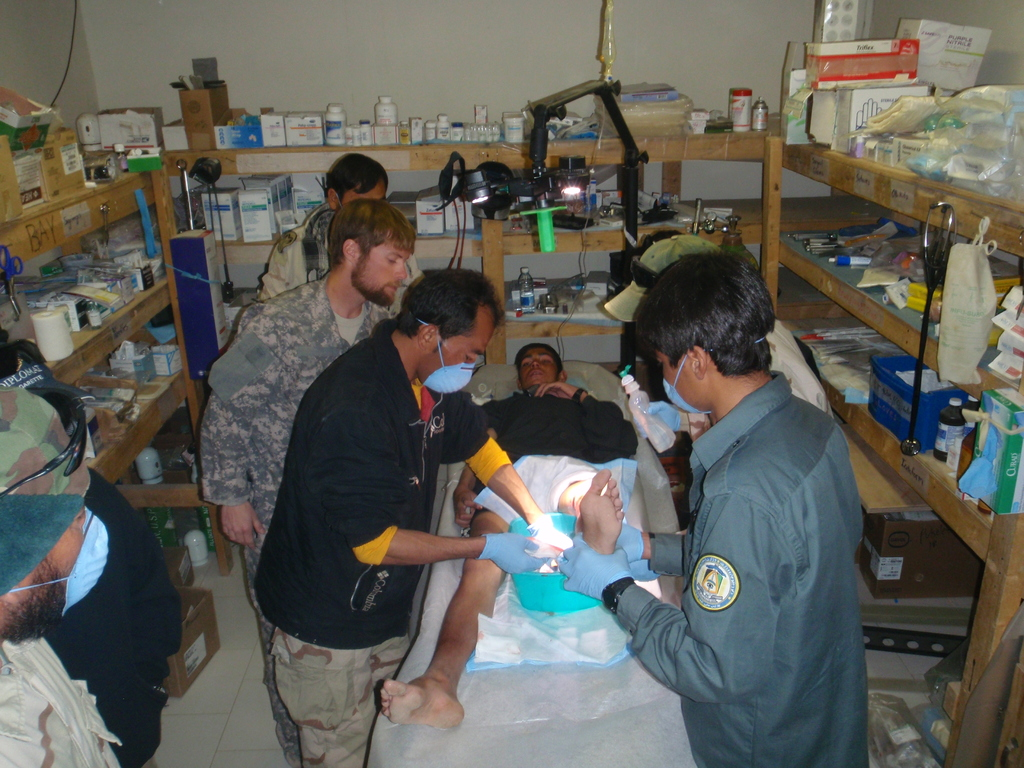Human-face: (15, 492, 88, 638), (356, 232, 410, 308), (517, 345, 561, 387), (344, 178, 390, 202)
